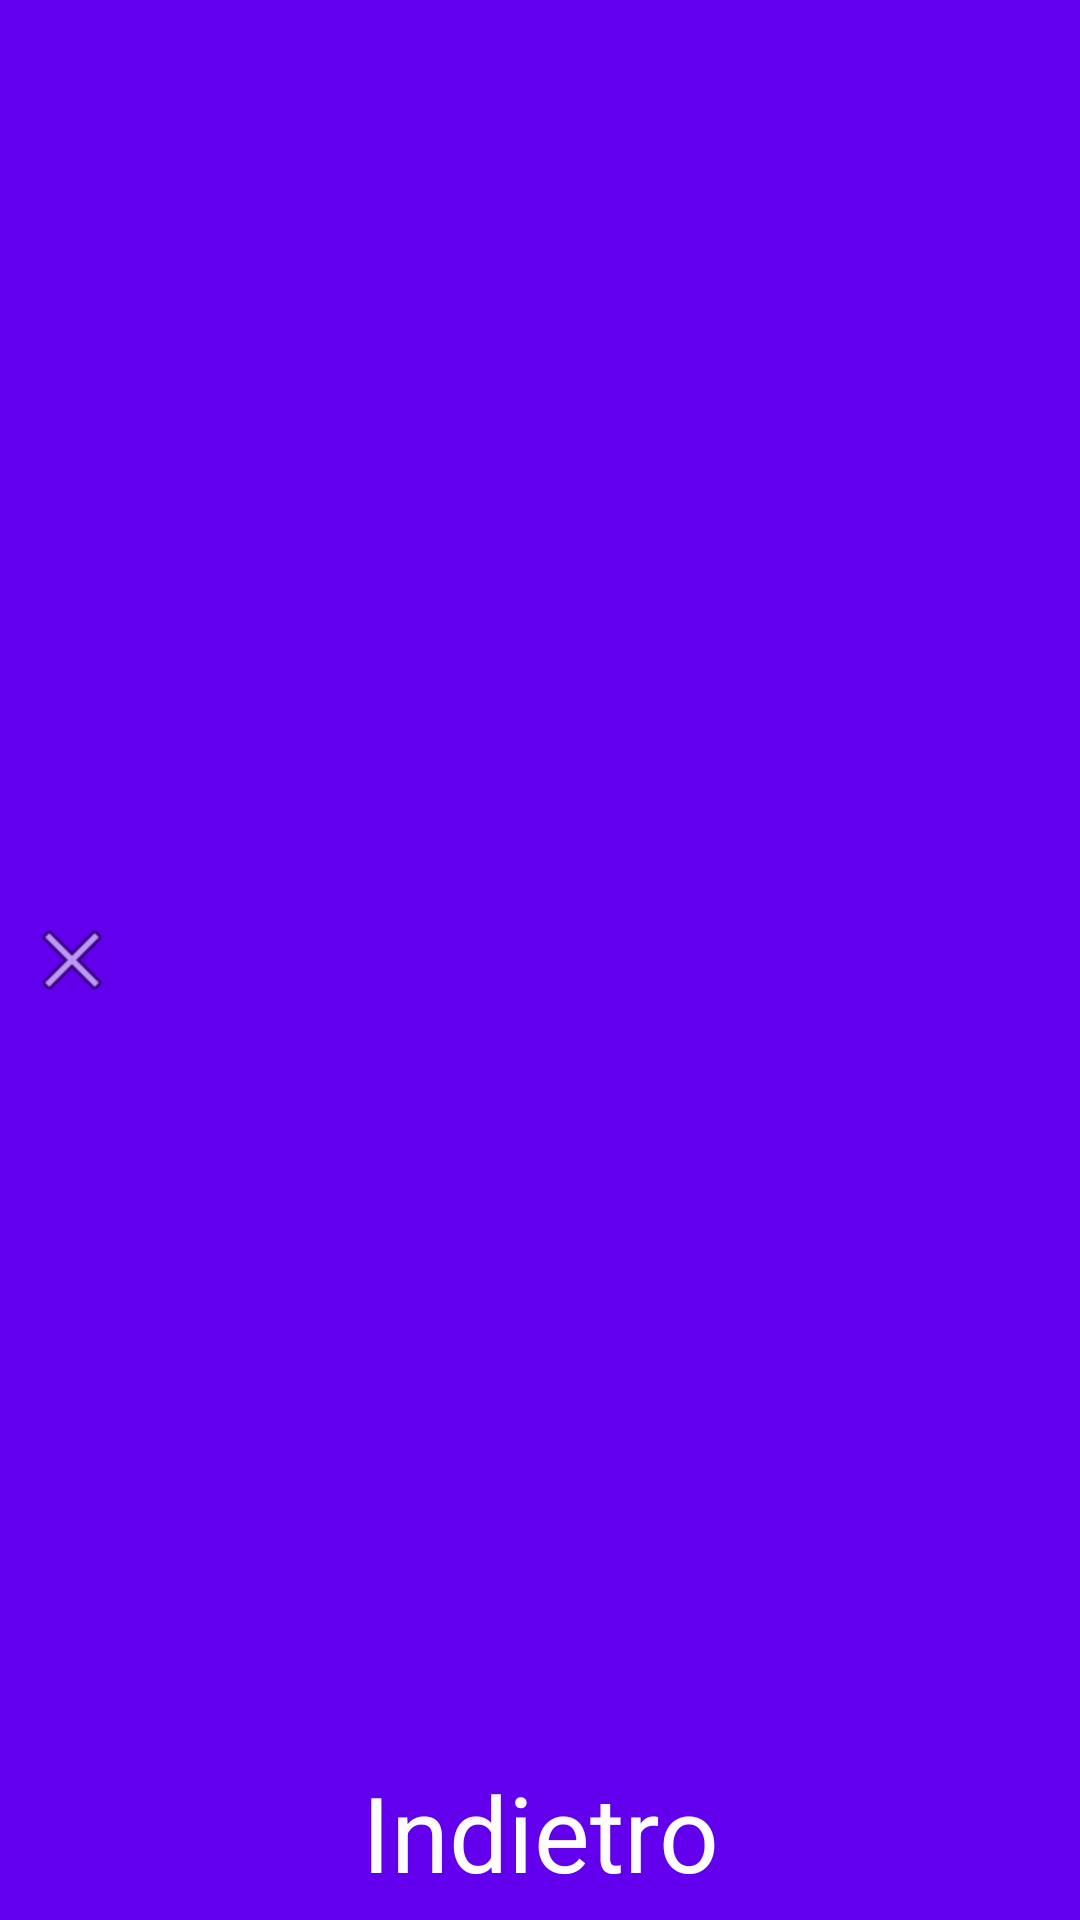

Icons on this 1080×1920 Android screen, each with its box as bbox=[x1, y1, x2, y2]:
Indietro: bbox=[42, 930, 102, 990]
